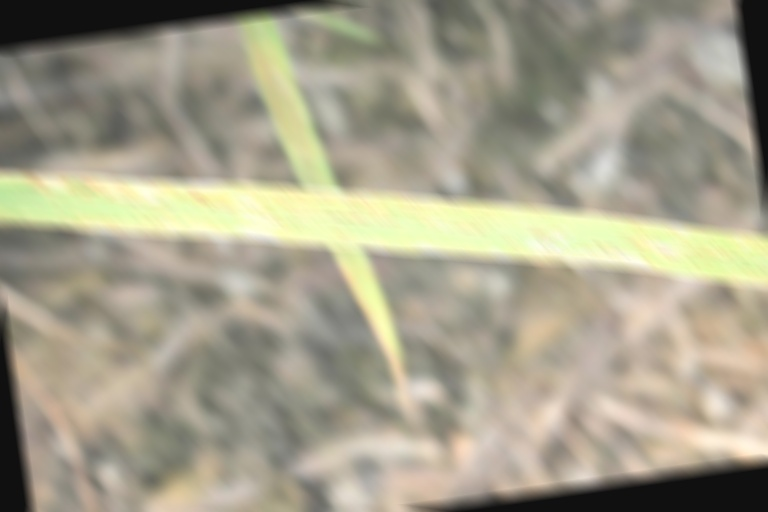Leaf_Blast: (38, 128, 646, 292)
